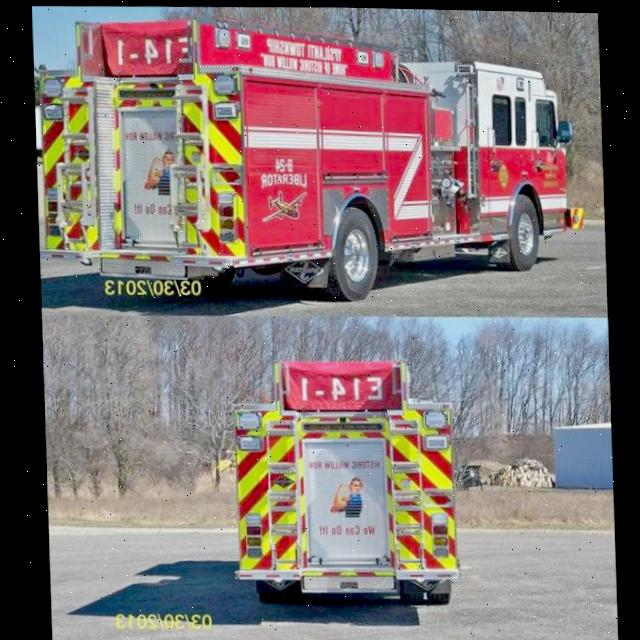emergency: (32, 7, 580, 309), (226, 352, 460, 606)
